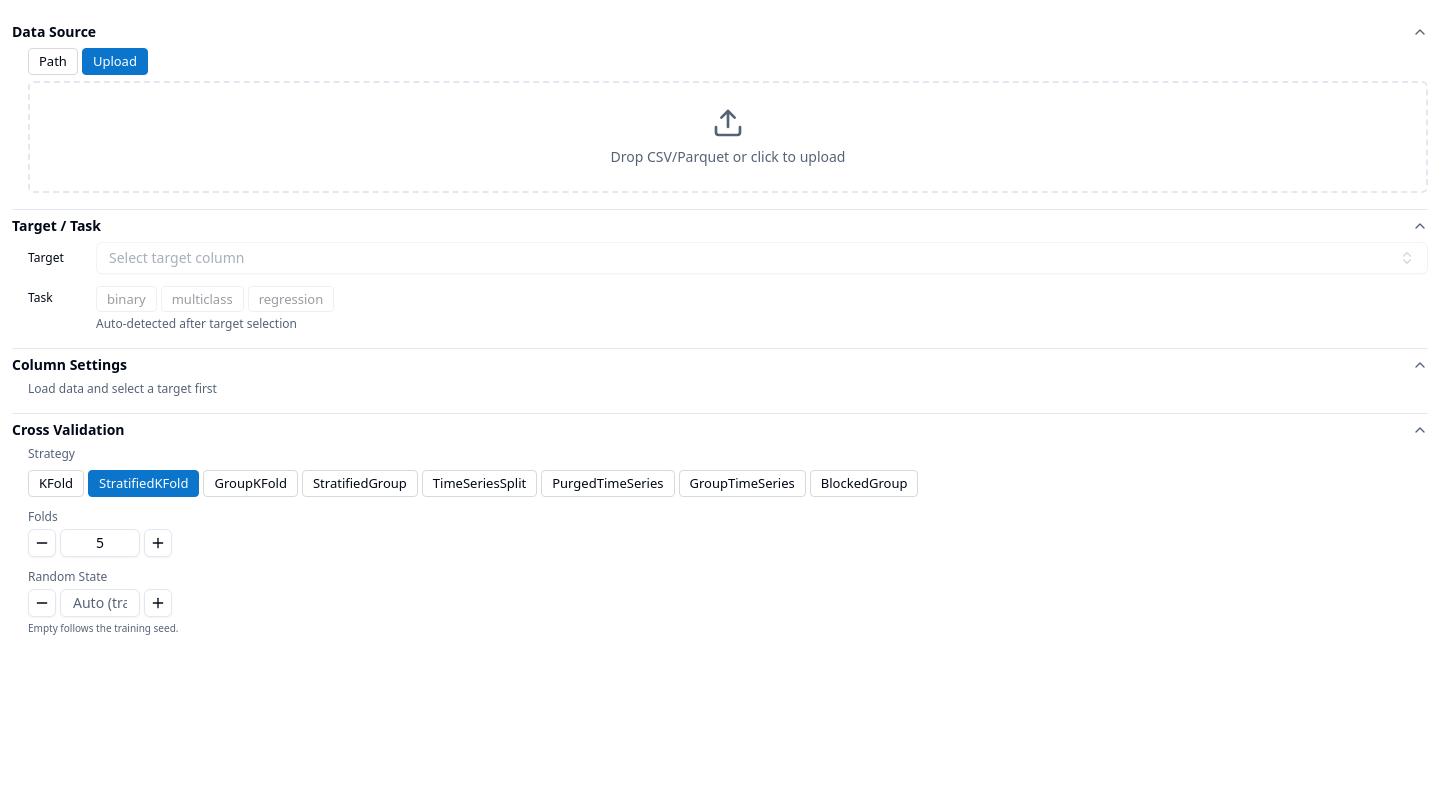
Test: DataPanel › renders path input and Load button when Path source is selected
The width and height of the screenshot is (1440, 810).
Click the "Path" segment to switch source type
Click the radio button "Path" at (53, 61), box left=28, top=48, right=78, bottom=75
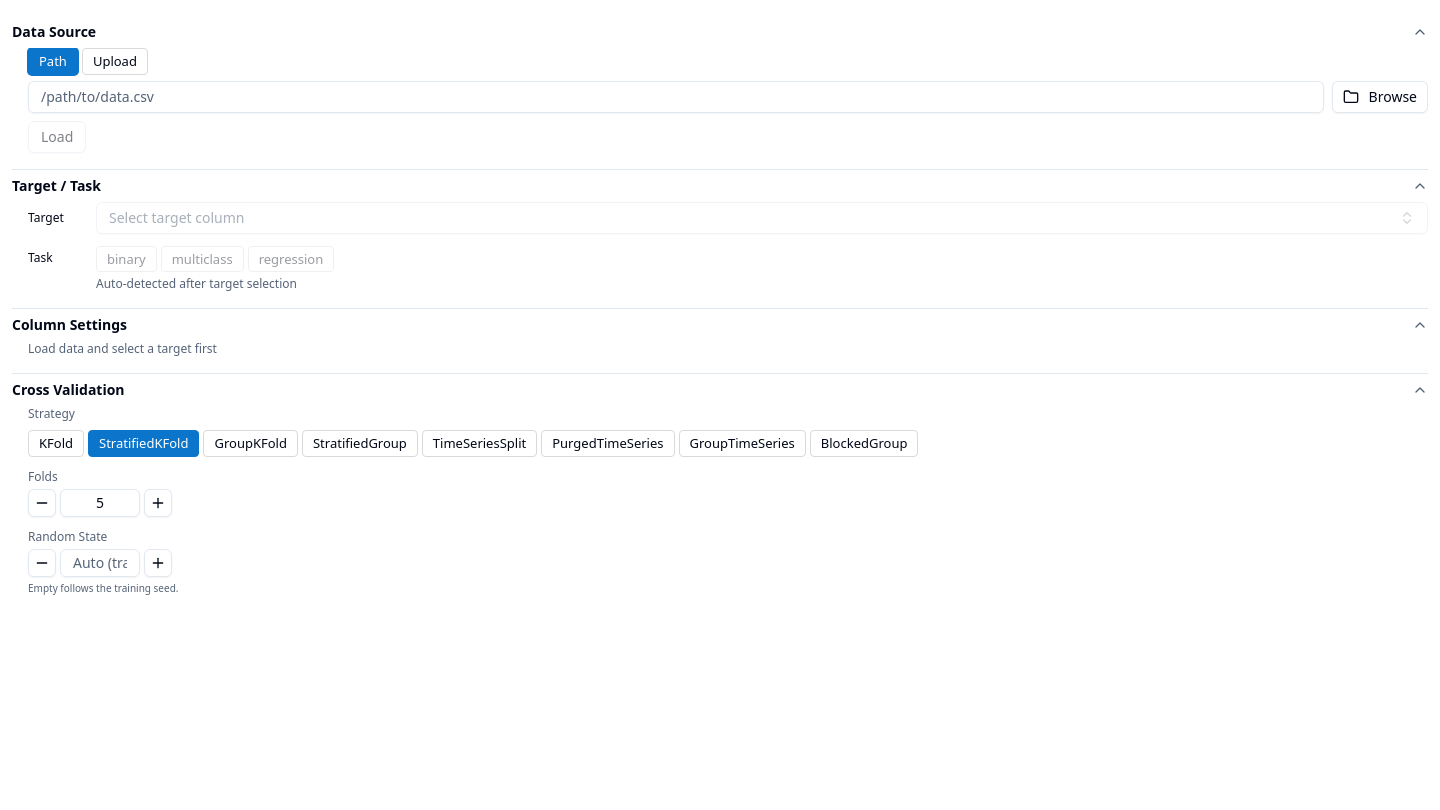
Expected: the button "Load" is shown, left=28, top=121, right=86, bottom=153
Now the field with placeholder "/path/to/data.csv" is shown, box left=28, top=81, right=1324, bottom=113
